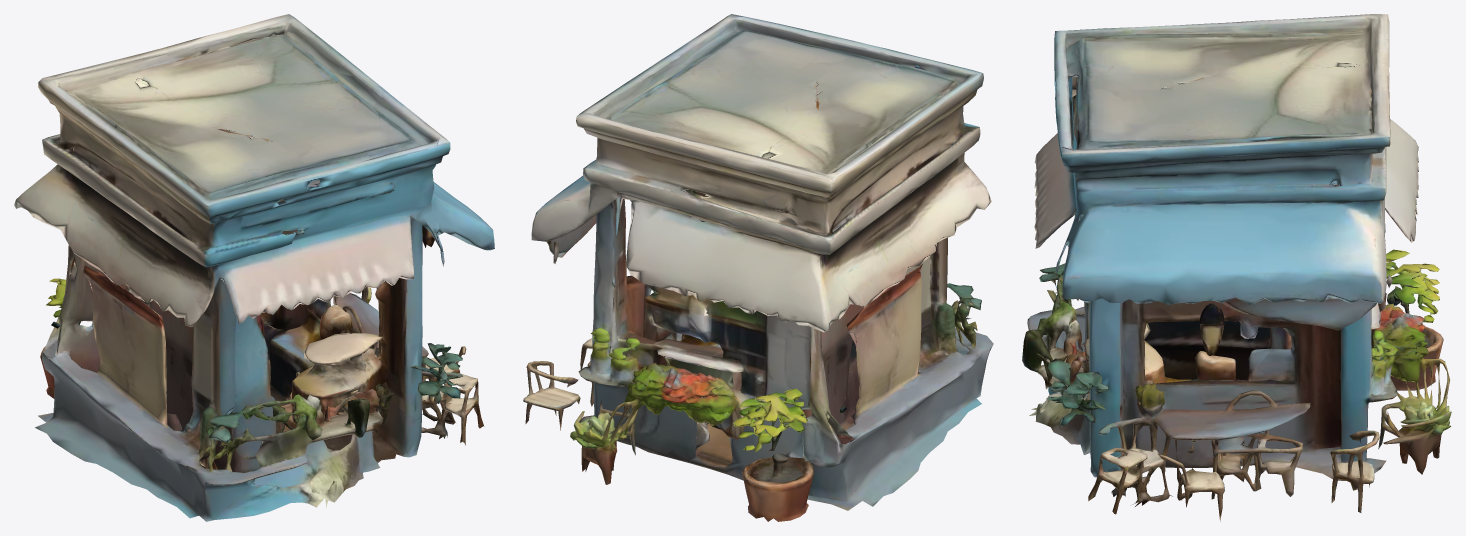
The model's file is street-cafe.glb.
3 views of the same model, side by side, from view 1: azimuth 30°, elevation 25°; view 2: azimuth 150°, elevation 25°; view 3: azimuth 270°, elevation 25° (orthographic). The views are drawn at different scales.
Parts seen in each view (by area): view 1: geometry_0; view 2: geometry_0; view 3: geometry_0.
Part boxes in pixels (x1,y1,x2,y2): geometry_0: (14, 14, 494, 521); geometry_0: (523, 14, 993, 521); geometry_0: (1022, 14, 1451, 521).
Bounding box in the file's own units: 4.38 × 4 × 4.44.
1 material, 1 textured.
